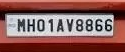0: (37, 19, 47, 32)
1: (48, 19, 55, 33)
6: (104, 18, 113, 33), (95, 19, 104, 32)
8: (85, 19, 94, 32), (76, 19, 84, 32)
A: (56, 19, 65, 33)
H: (27, 17, 36, 33)
M: (17, 17, 26, 33)
V: (66, 18, 74, 32)
